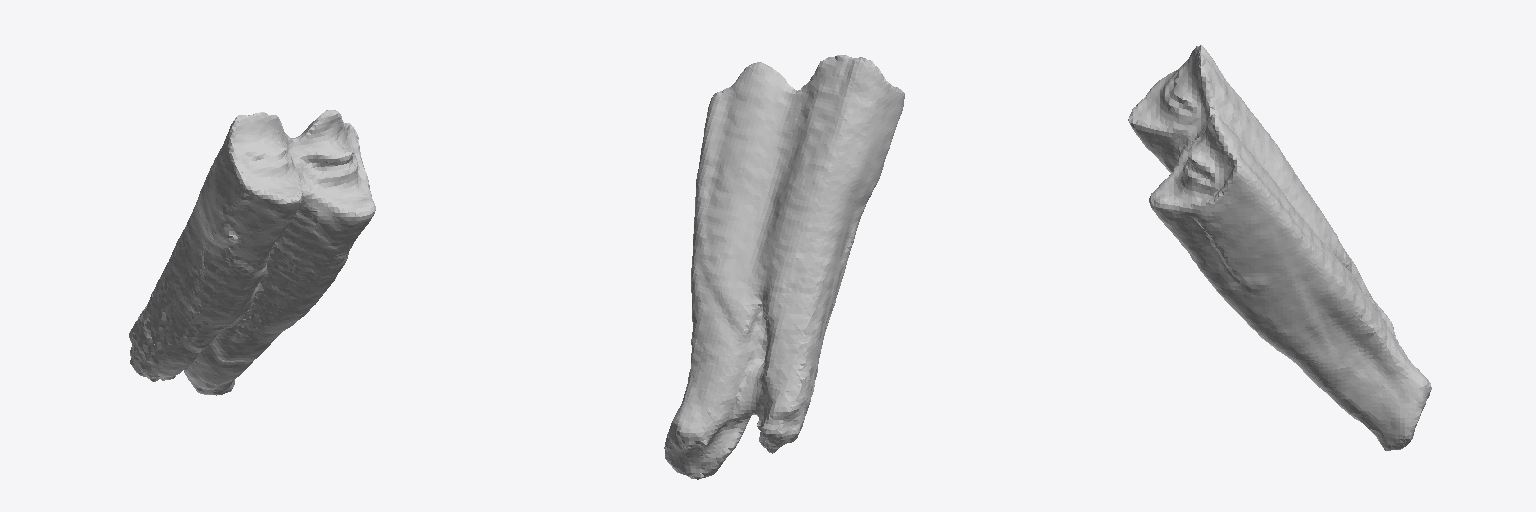
File: MB Ovis 10 M1.obj
3 renders of one model, left to right at view 1: azimuth 30°, elevation 25°; view 2: azimuth 150°, elevation 25°; view 3: azimuth 270°, elevation 25°, orthographic.
Bounding box in the file's own units: 12.09 × 26.83 × 20.09.